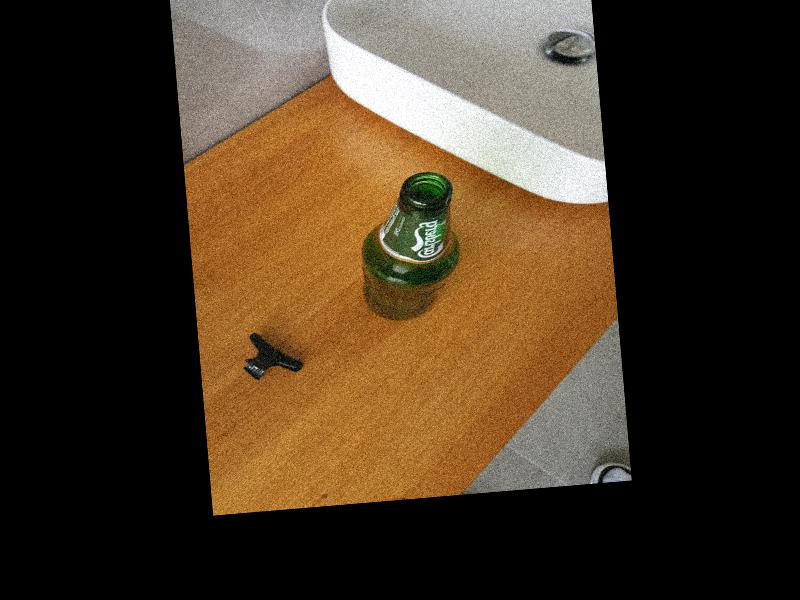Beer: (355, 171, 464, 324)
